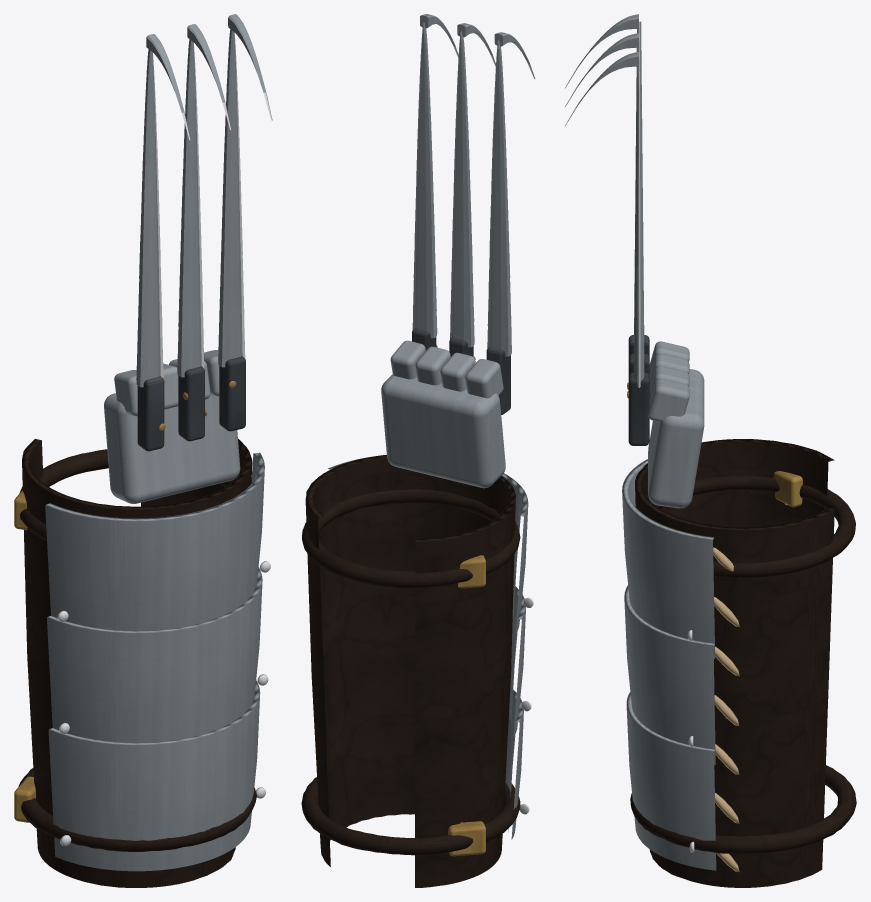
Rendered from hook-claws.glb.
3 views of the same model, side by side, from view 1: azimuth 30°, elevation 25°; view 2: azimuth 150°, elevation 25°; view 3: azimuth 270°, elevation 25° (orthographic). The views are drawn at different scales.
Parts seen in each view (by area): view 1: steel / forged blade steel, leather / oiled leather wrap, darksteel / oil-blackened fittings, edge / honed bright bevel, brass / polished brass furniture; view 2: leather / oiled leather wrap, steel / forged blade steel, edge / honed bright bevel, brass / polished brass furniture, darksteel / oil-blackened fittings; view 3: leather / oiled leather wrap, steel / forged blade steel, darksteel / oil-blackened fittings, thread loop, edge / honed bright bevel, brass / polished brass furniture.
Boxes of the visible parts, <box> form: steel / forged blade steel: <box>45,14,266,871</box>; leather / oiled leather wrap: <box>18,439,256,887</box>; darksteel / oil-blackened fittings: <box>137,356,245,451</box>; edge / honed bright bevel: <box>57,34,272,846</box>; brass / polished brass furniture: <box>14,490,35,822</box>; leather / oiled leather wrap: <box>301,455,520,887</box>; steel / forged blade steel: <box>328,14,529,839</box>; edge / honed bright bevel: <box>412,34,535,814</box>; brass / polished brass furniture: <box>448,555,485,856</box>; darksteel / oil-blackened fittings: <box>412,328,510,414</box>; leather / oiled leather wrap: <box>630,439,856,887</box>; steel / forged blade steel: <box>577,14,716,870</box>; darksteel / oil-blackened fittings: <box>628,335,649,445</box>; thread loop: <box>713,547,739,872</box>; edge / honed bright bevel: <box>564,21,694,852</box>; brass / polished brass furniture: <box>774,471,802,507</box>.
Bounding box in the file's own units: 0.1579 × 0.6046 × 0.1969.
Materials: 7 (5 with a texture image).
